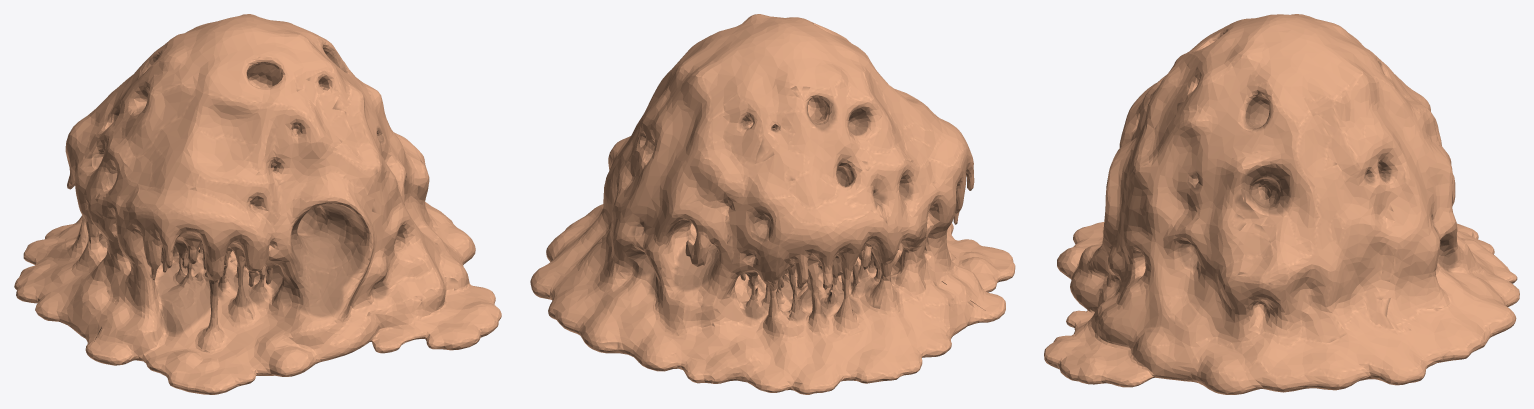
File: devorador_organico.glb
The picture shows the model from 3 angles, left to right: view 1: azimuth 30°, elevation 25°; view 2: azimuth 150°, elevation 25°; view 3: azimuth 270°, elevation 25°; orthographic projection. The views are drawn at different scales.
Parts seen in each view (by area): view 1: tmp19bhkadm.ply; view 2: tmp19bhkadm.ply; view 3: tmp19bhkadm.ply.
Boxes of the visible parts, x1=… form: tmp19bhkadm.ply: x1=14, y1=14, x2=501, y2=394; tmp19bhkadm.ply: x1=530, y1=14, x2=1015, y2=394; tmp19bhkadm.ply: x1=1044, y1=14, x2=1519, y2=394.
Size of the model in its own units: 1.96 by 1.28 by 1.96.
1 material, 1 textured.
